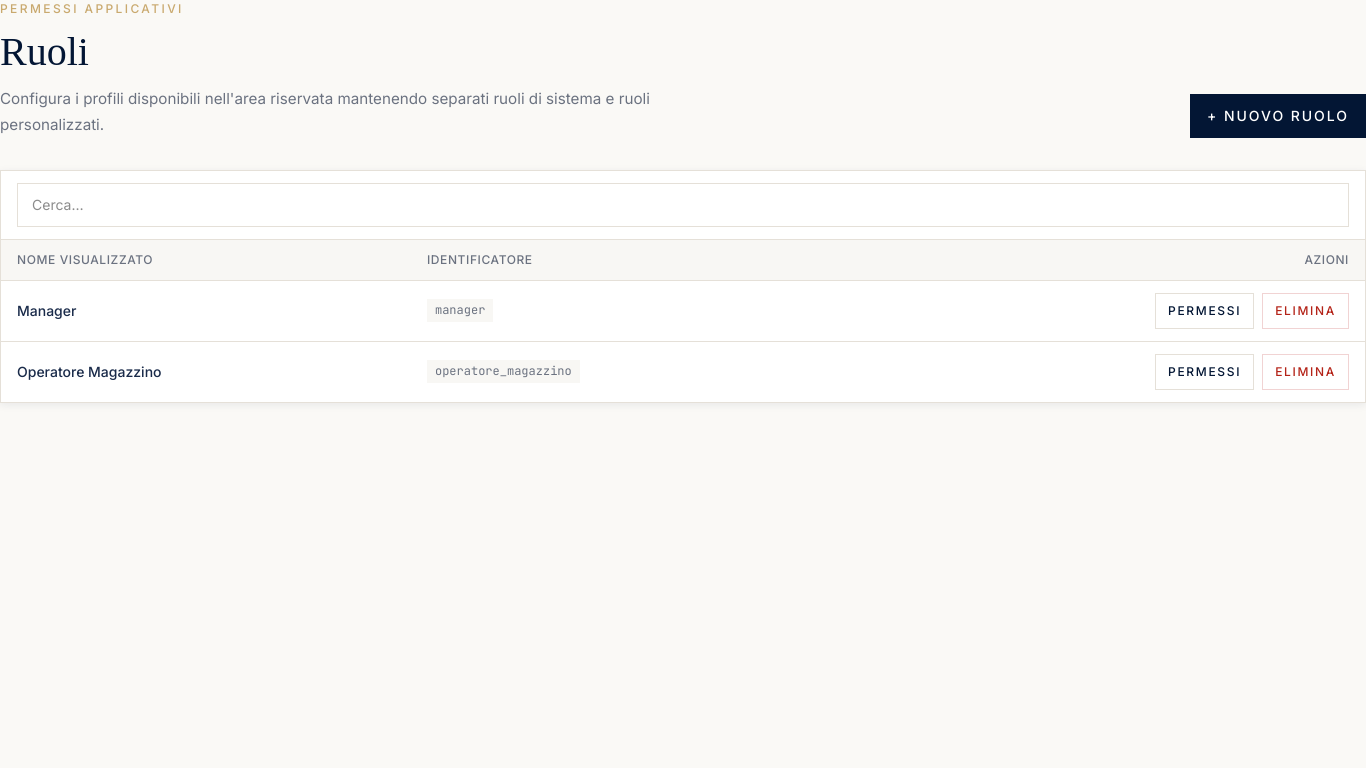
Scenario: RolesPage › ignores stale create-catalog responses after closing and reopening the modal
This screenshot has width=1366, height=768.
Click the button "+ Nuovo ruolo": (1278, 116) [1190,94,1365,138]
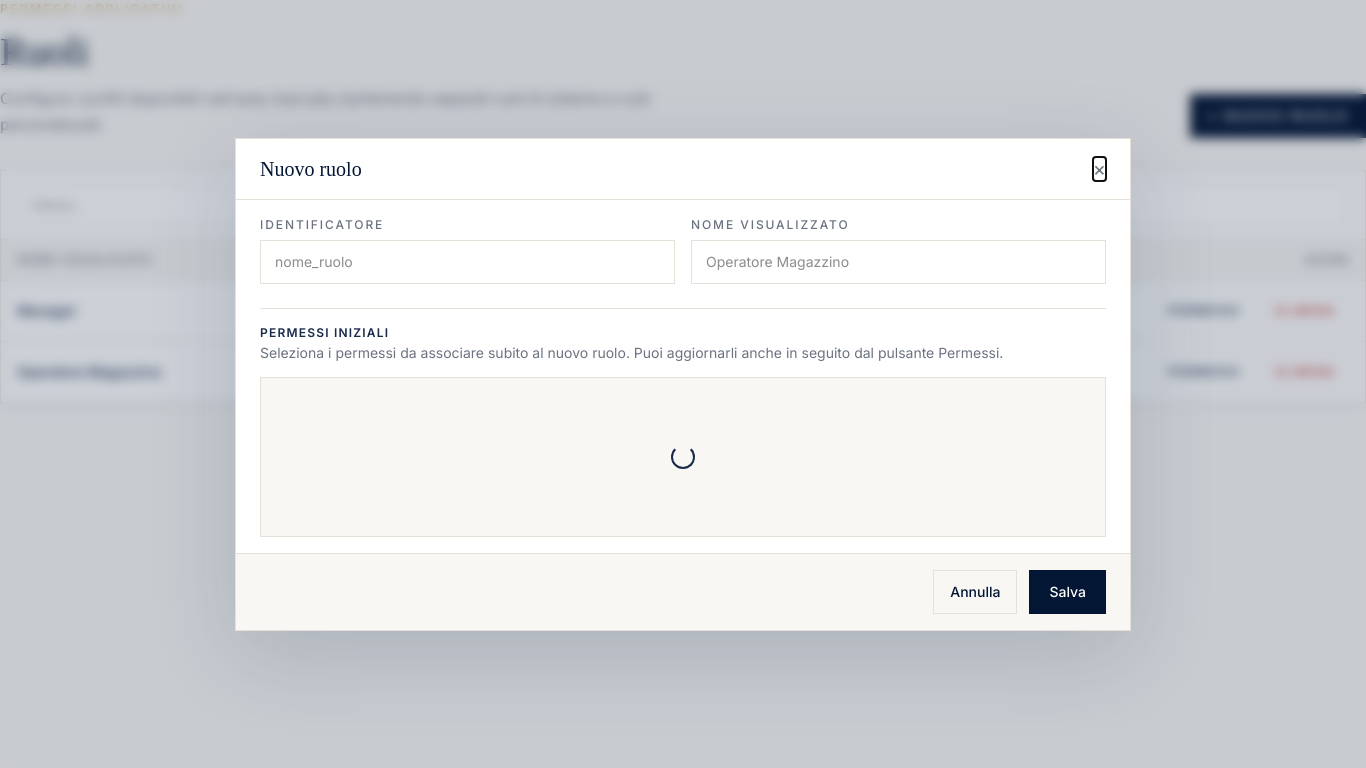
Expected: the message is shown, [260,376,1106,536]
Click the button "Annulla": (975, 592) [933,570,1018,614]
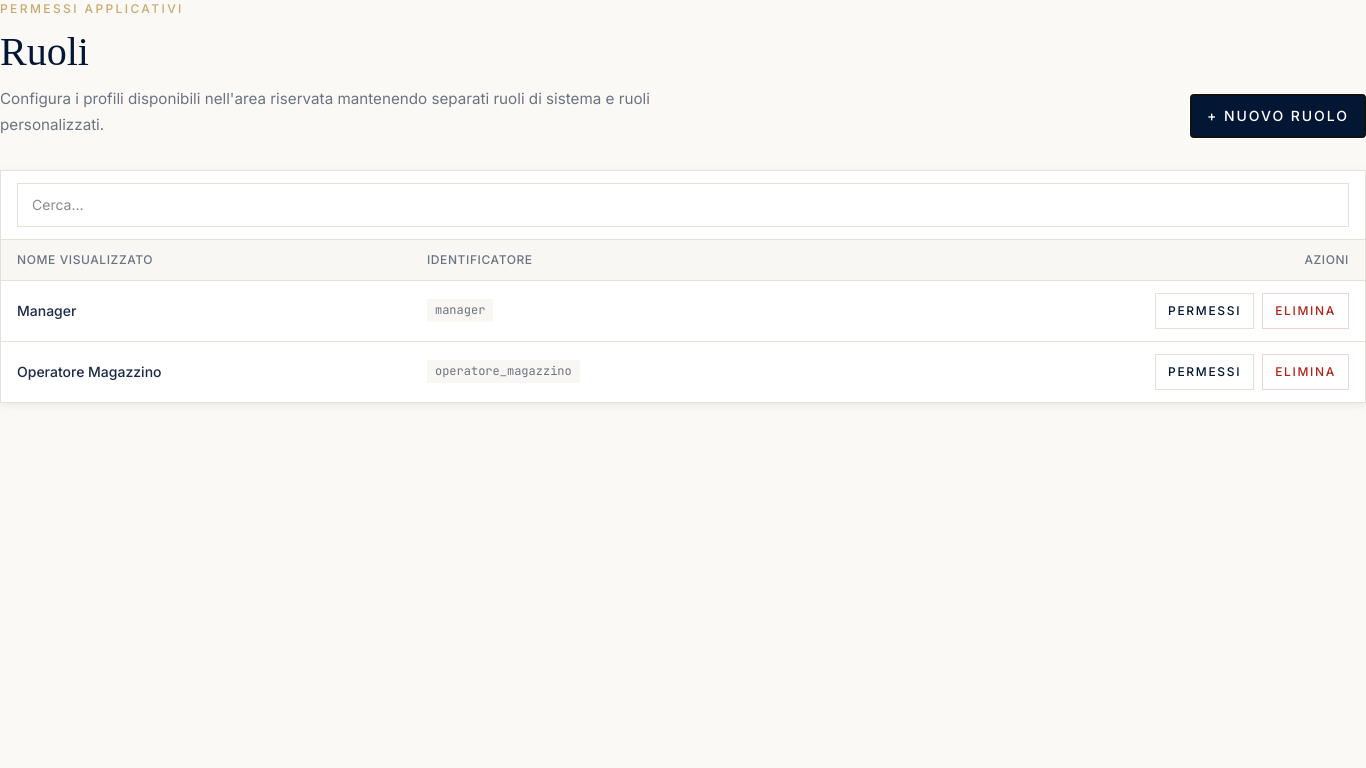
Click the button "+ Nuovo ruolo": (1278, 116) [1190,94,1365,138]
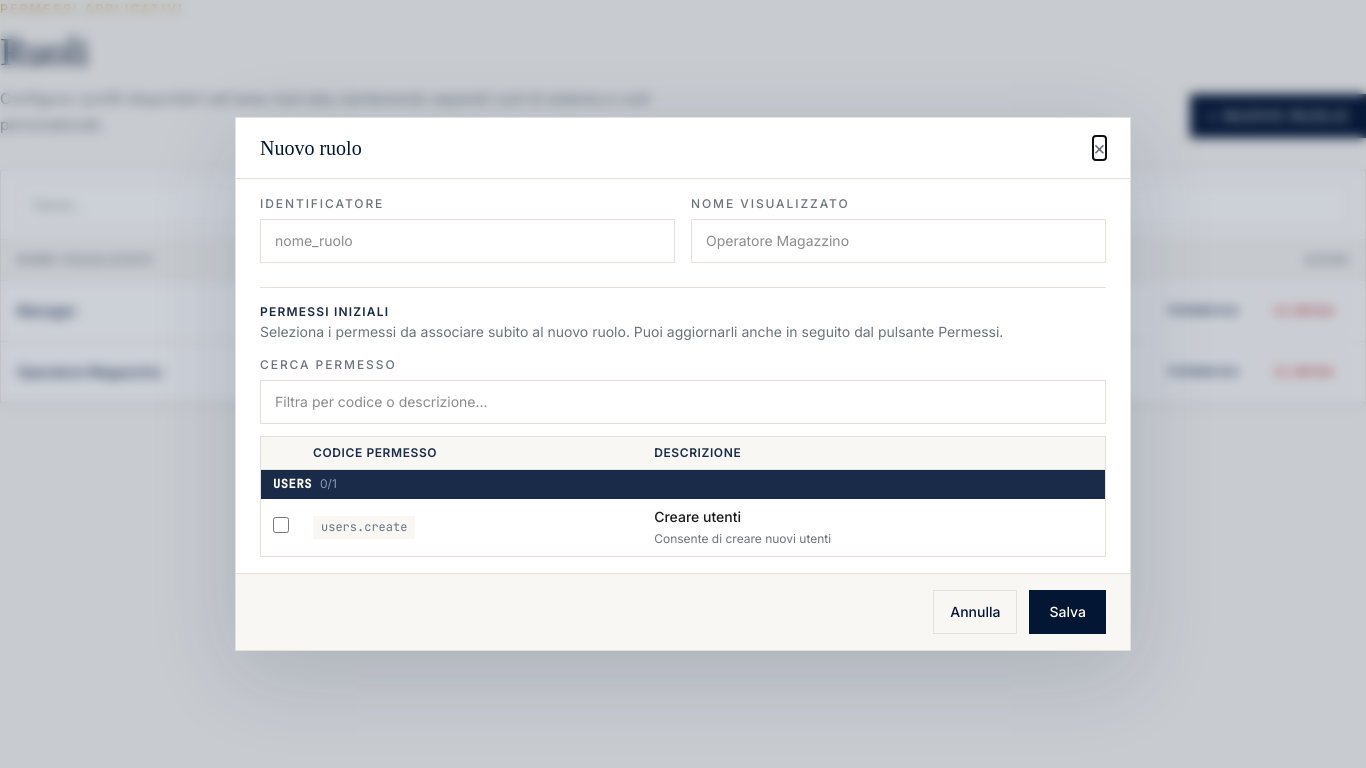
Expected: the text "users.create" is shown, [313,516,415,539]
